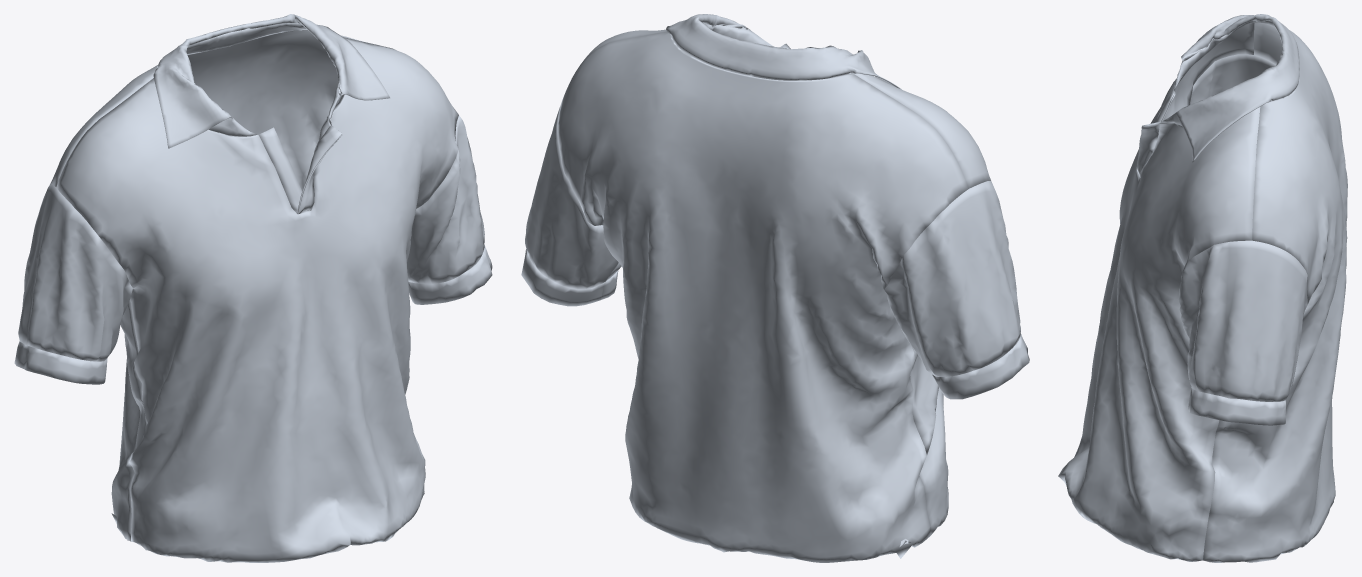
The picture shows the model from 3 angles, left to right: view 1: azimuth 30°, elevation 25°; view 2: azimuth 150°, elevation 25°; view 3: azimuth 270°, elevation 25°; orthographic projection. The views are drawn at different scales.
Parts seen in each view (by area): view 1: Relaxed_Polo_223; view 2: Relaxed_Polo_223; view 3: Relaxed_Polo_223.
Part boxes in pixels (box(x1,y1,x2,y2)): Relaxed_Polo_223: box(14, 14, 492, 562); Relaxed_Polo_223: box(521, 14, 1029, 562); Relaxed_Polo_223: box(1058, 14, 1347, 562).
Size of the model in its own units: 2 by 1.95 by 1.09.
